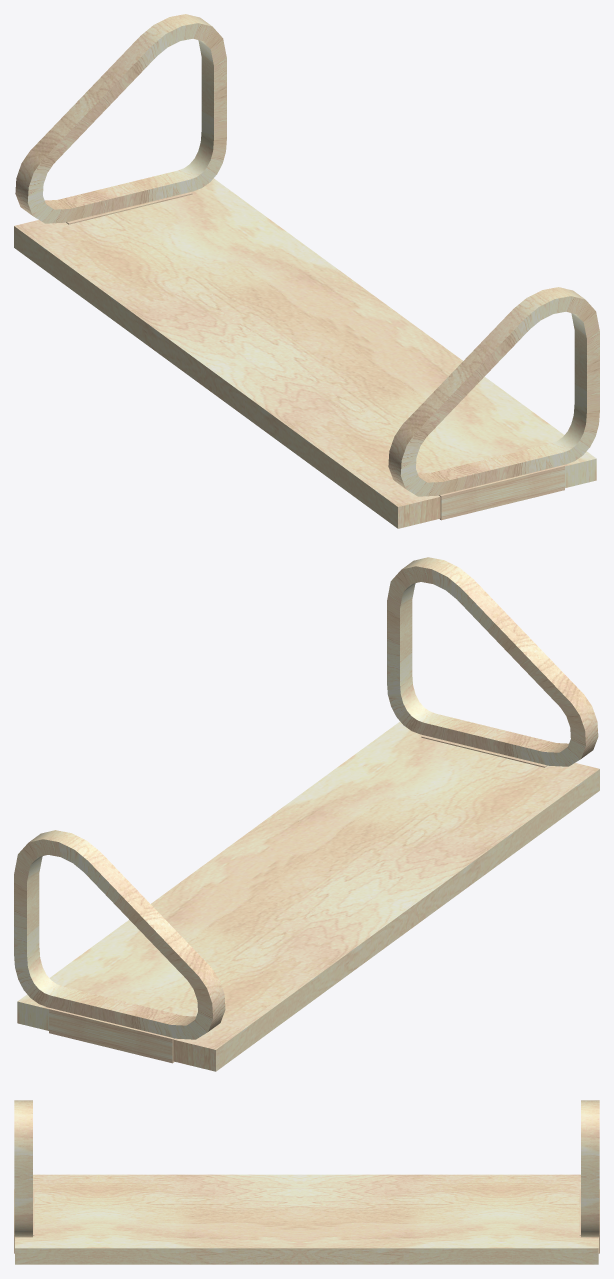
The model's file is shelf2.FBX.
The picture shows the model from 3 angles, top to bottom: view 1: azimuth 30°, elevation 25°; view 2: azimuth 150°, elevation 25°; view 3: azimuth 270°, elevation 25°; orthographic projection. The views are drawn at different scales.
Visible parts, largest first — view 1: AA112 (×4); view 2: AA112 (×4); view 3: AA112 (×3).
Boxes of the visible parts, <box> form: AA112 (×4): <box>14,14,599,528</box>; AA112 (×4): <box>14,557,599,1071</box>; AA112 (×3): <box>14,1100,599,1264</box>.
Size of the model in its own units: 271 by 248 by 897.
1 material, 1 textured.
